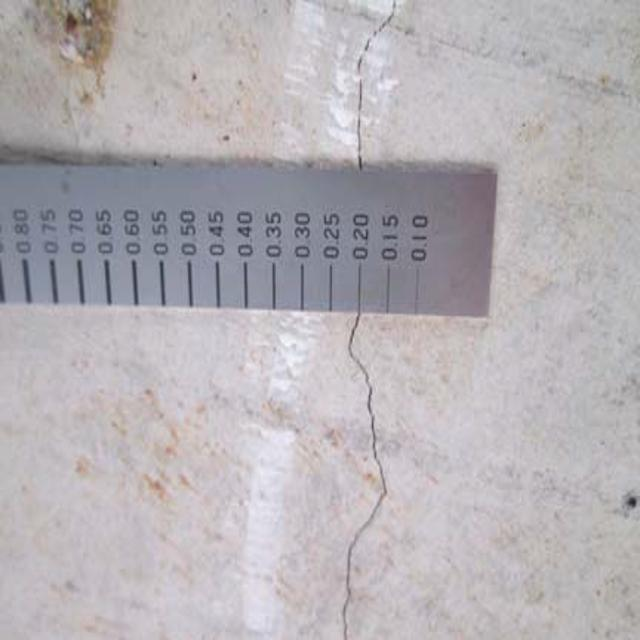crack: (328, 317, 393, 639), (341, 3, 403, 174)
